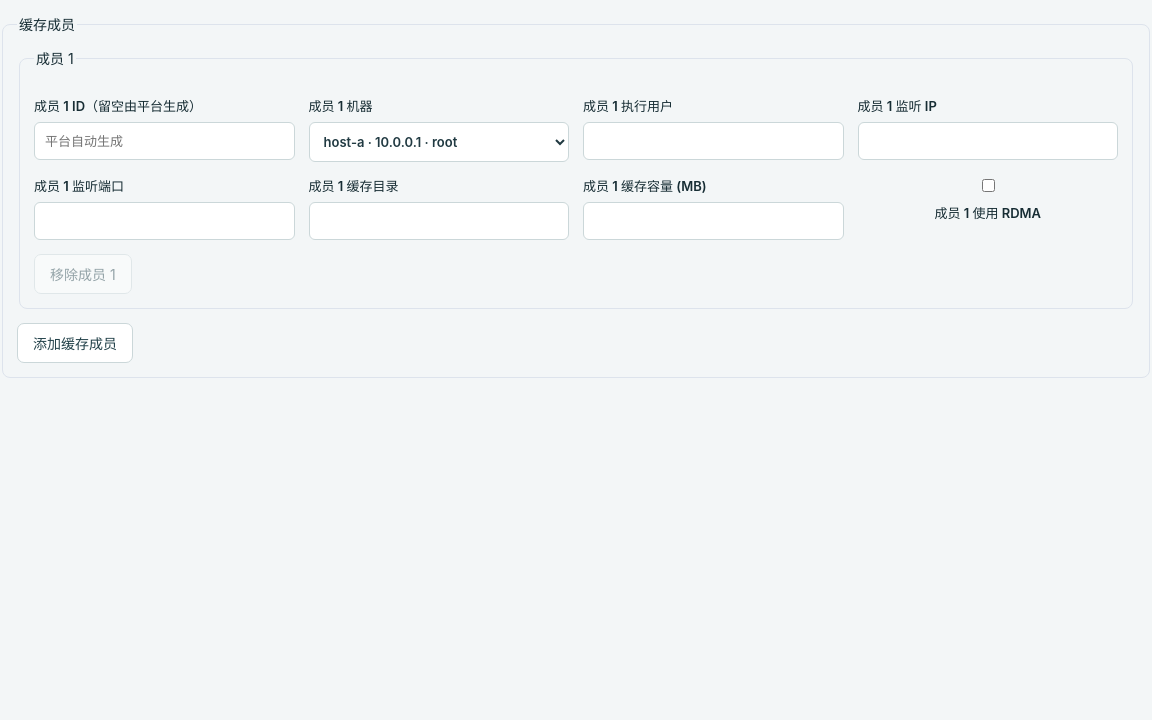
Test: missing or uncollected RDMA hardware shows a clear error
The image size is (1152, 720).
Select "host-none · 10.0.0.3 · root" in the dropdown labelled "成员 1 机器" at point(439, 142), box [308, 122, 569, 162]
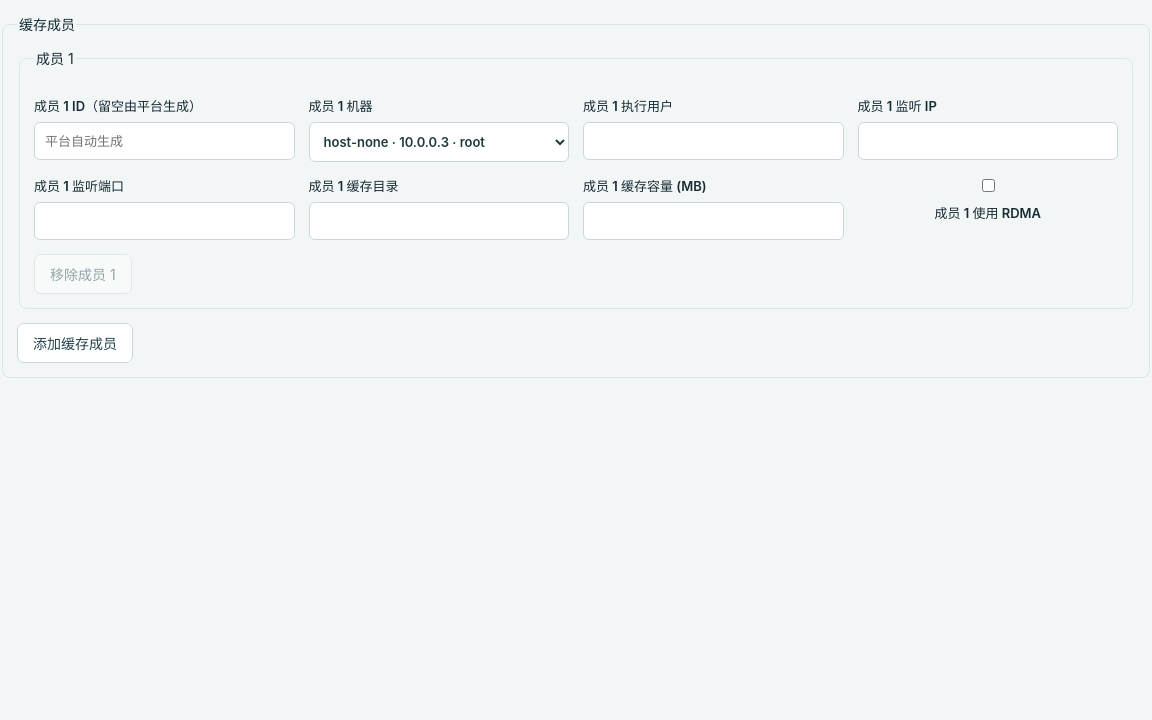
Click the checkbox labelled "成员 1 使用 RDMA".
click(988, 186)  # box [982, 179, 995, 192]
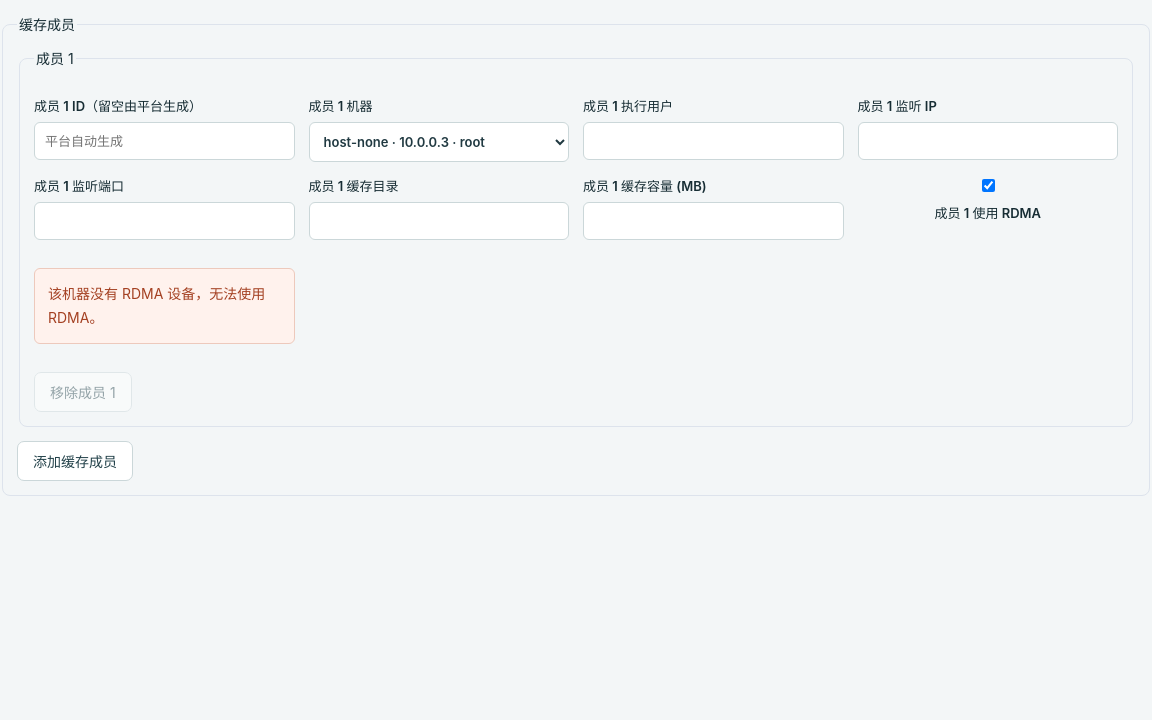
Expected: the message shows "没有 RDMA 设备", [48, 285, 265, 326]
Select "host-unknown · 10.0.0.4 · root" in the dropdown labelled "成员 1 机器" at point(439, 142), box [308, 122, 569, 162]
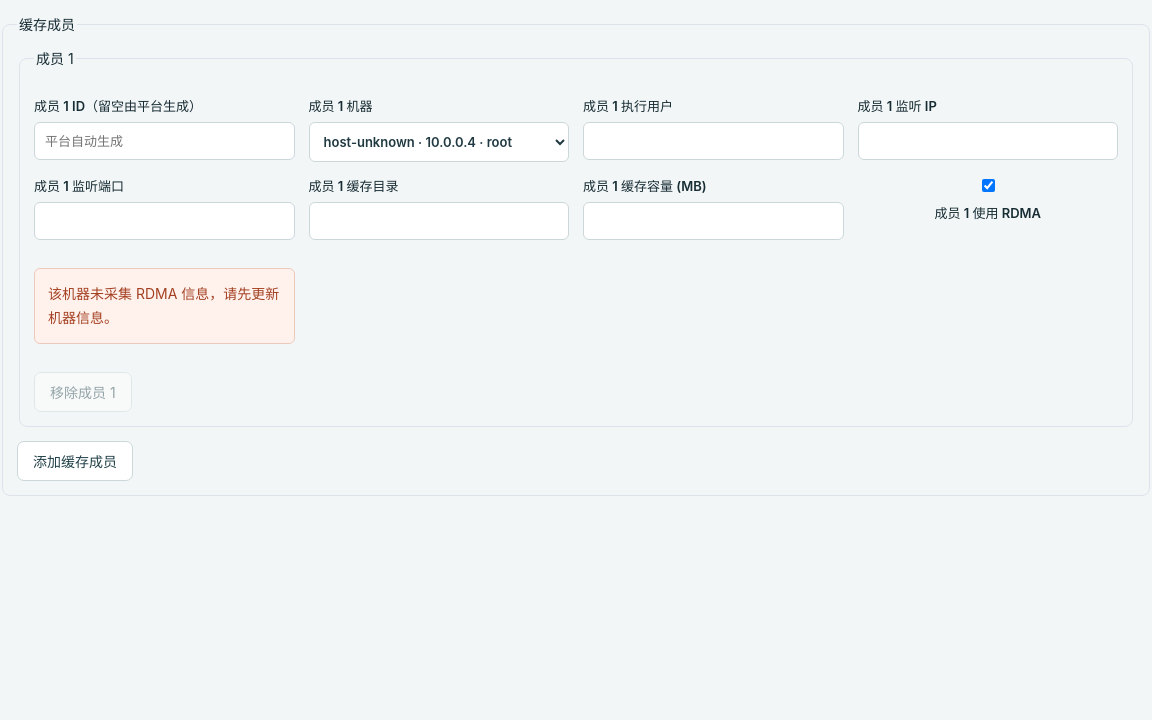
Expected: the message shows "未采集 RDMA 信息", [48, 285, 279, 326]
